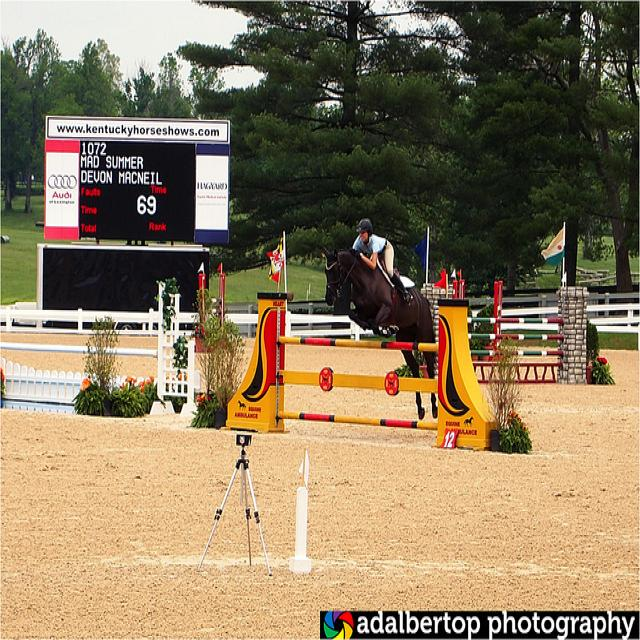horse: (320, 244, 438, 420)
person: (352, 217, 413, 302)
